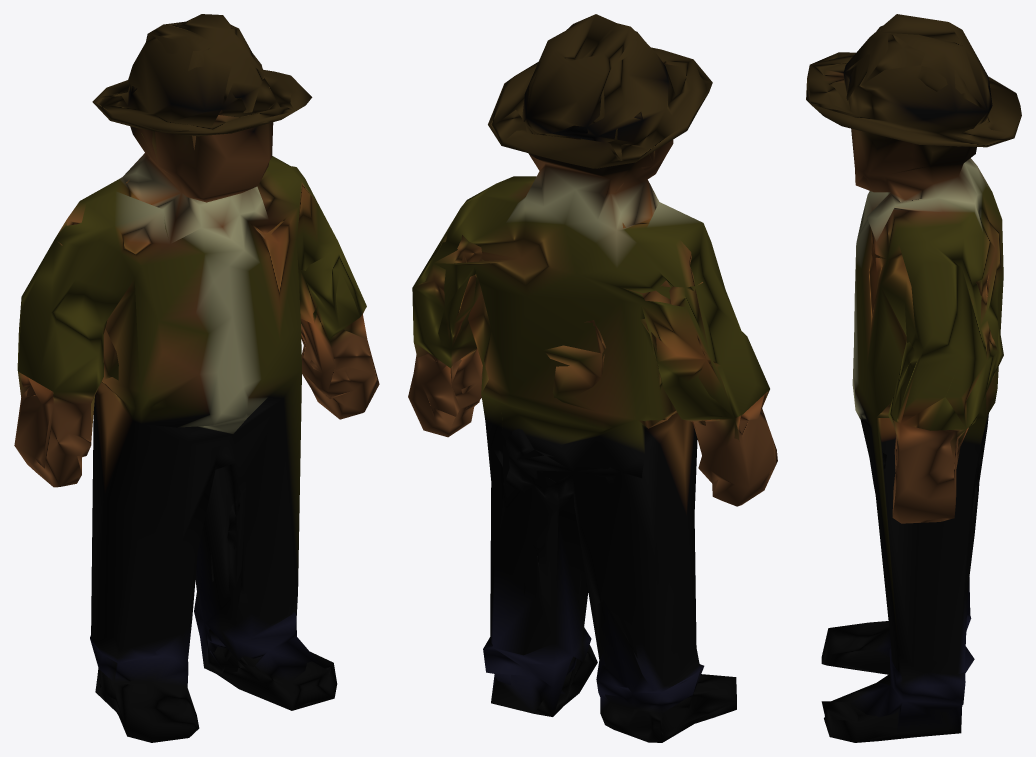
File: gen3d-farmer-lod0.glb
The picture shows the model from 3 angles, left to right: view 1: azimuth 30°, elevation 25°; view 2: azimuth 150°, elevation 25°; view 3: azimuth 270°, elevation 25°; orthographic projection. The views are drawn at different scales.
Parts seen in each view (by area): view 1: part_0; view 2: part_0; view 3: part_0.
Part boxes in pixels (x1,y1,x2,y2): part_0: (14, 14, 379, 742); part_0: (408, 14, 777, 742); part_0: (806, 14, 1021, 742).
Bounding box in the file's own units: 0.5299 × 0.9978 × 0.2919.
